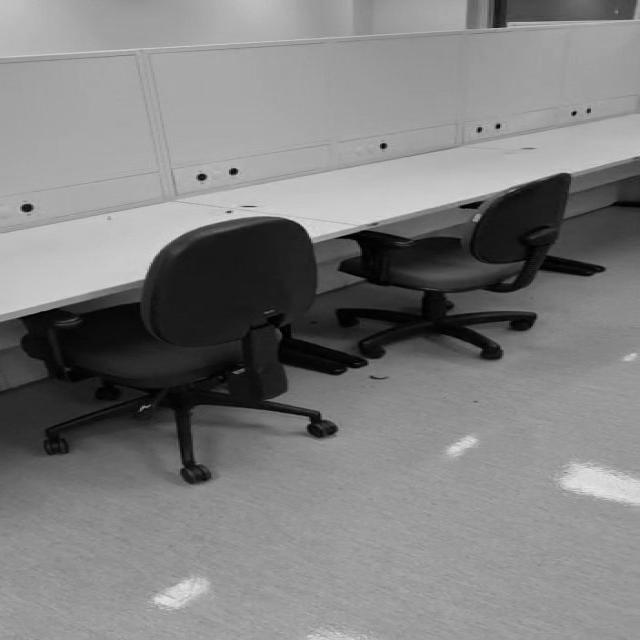cadeira-azul: (20, 217, 338, 484)
